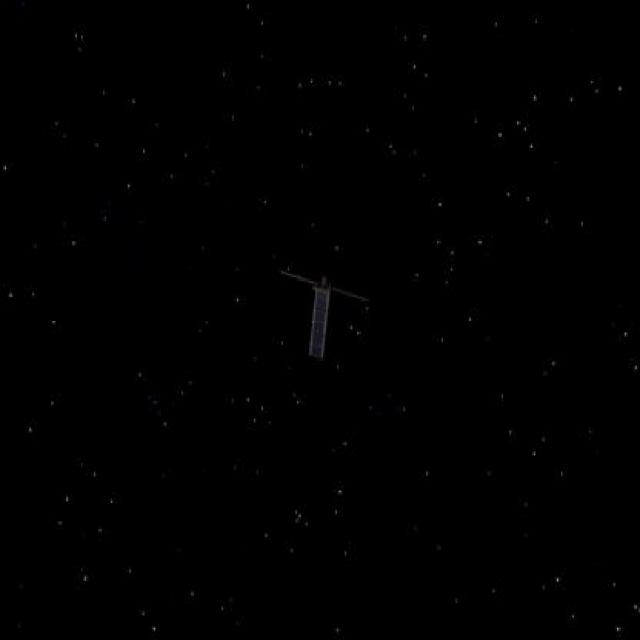medium_debris: (271, 266, 377, 368)
